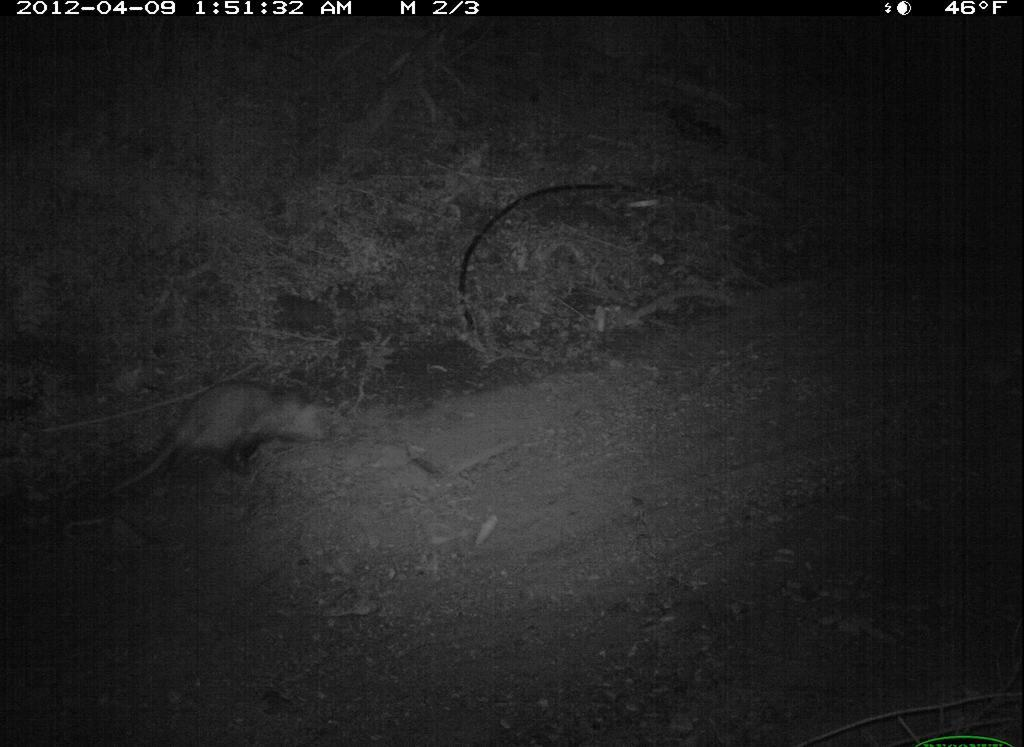opossum: (88, 368, 360, 507)
